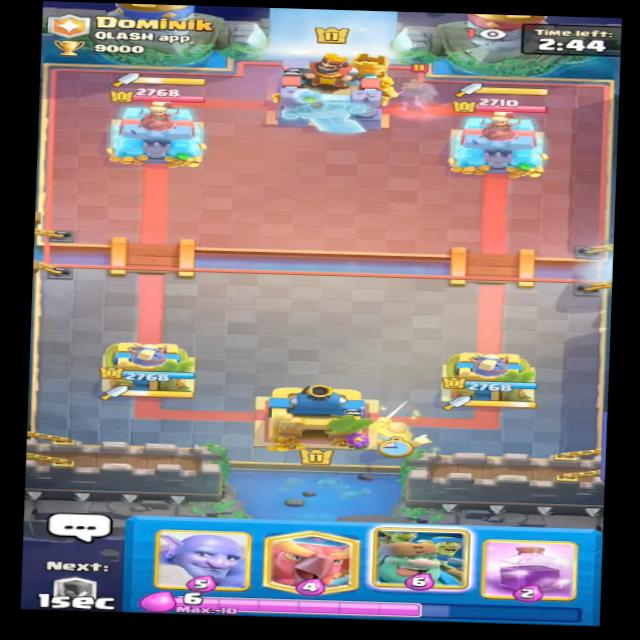royal-ghost: (391, 63, 448, 112)
